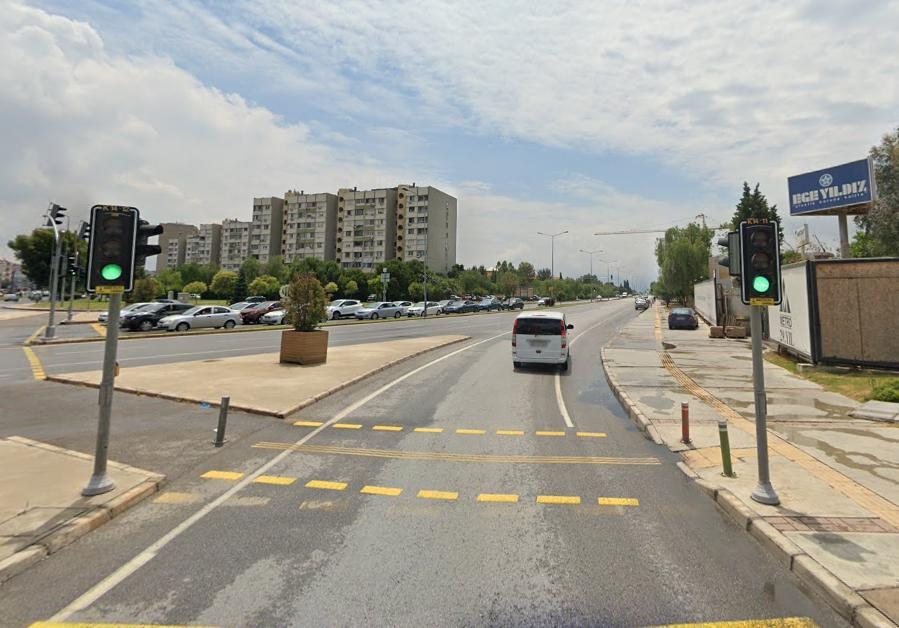greenlight: (89, 203, 128, 283), (744, 221, 778, 299)
